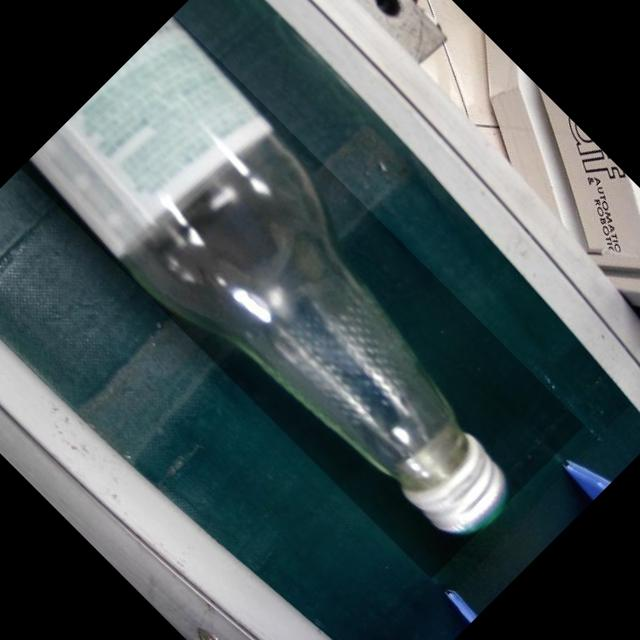BotolKaca: (19, 14, 586, 580)
